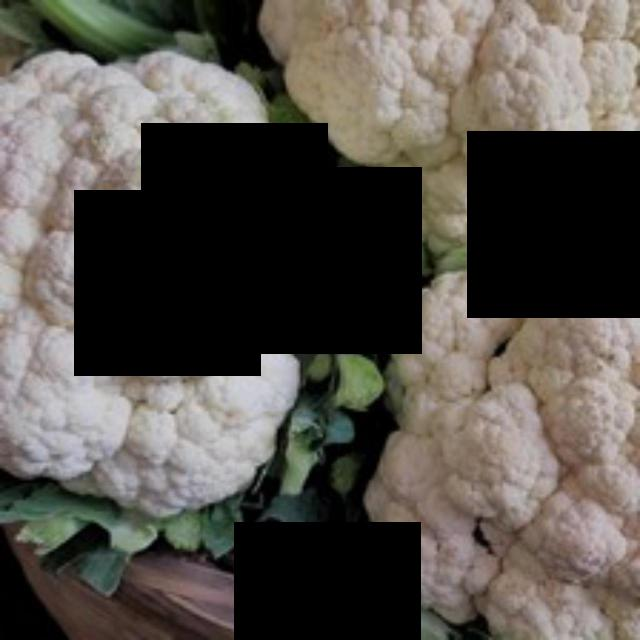cauliflower: (357, 203, 637, 637)
